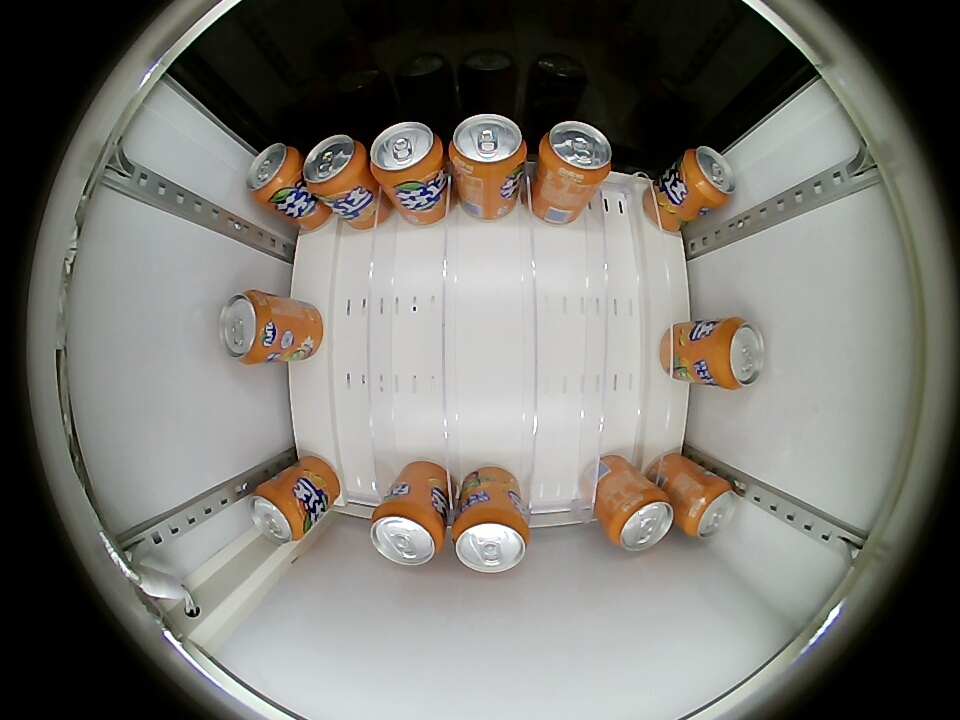fenda: (452, 506, 530, 574), (449, 114, 527, 180), (370, 121, 446, 188), (369, 501, 445, 566), (538, 121, 613, 186), (607, 488, 674, 552), (219, 290, 276, 365), (303, 134, 369, 195), (710, 317, 765, 390), (249, 482, 306, 544), (681, 477, 738, 539), (246, 142, 302, 204), (682, 145, 737, 207)
